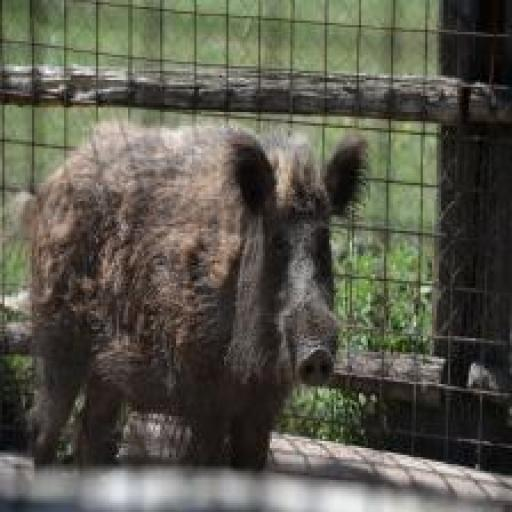Pig: (0, 119, 373, 470)
